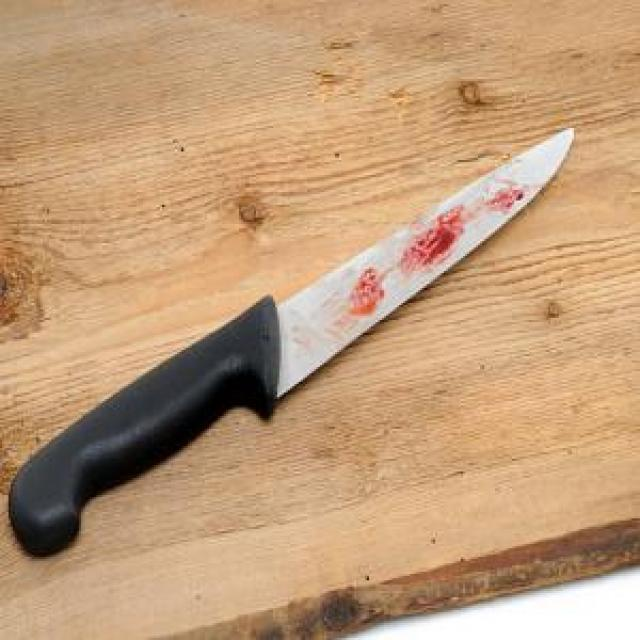knife: (9, 126, 578, 553)
